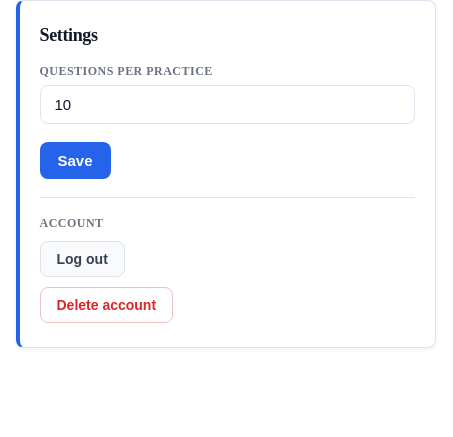
Scenario: Settings — account actions › cancels the delete confirmation
Check: the number field holds "10", box [40,85,414,124]
Click the button "Delete account": (106, 305) [40,287,173,323]
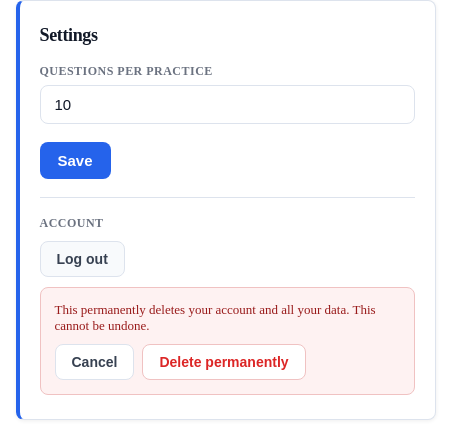
Click the button "Cancel": (94, 362) [54,344,134,380]
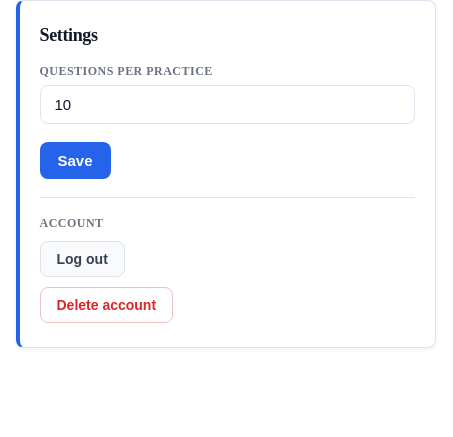
Check: the text "This permanently deletes your account" is gone
